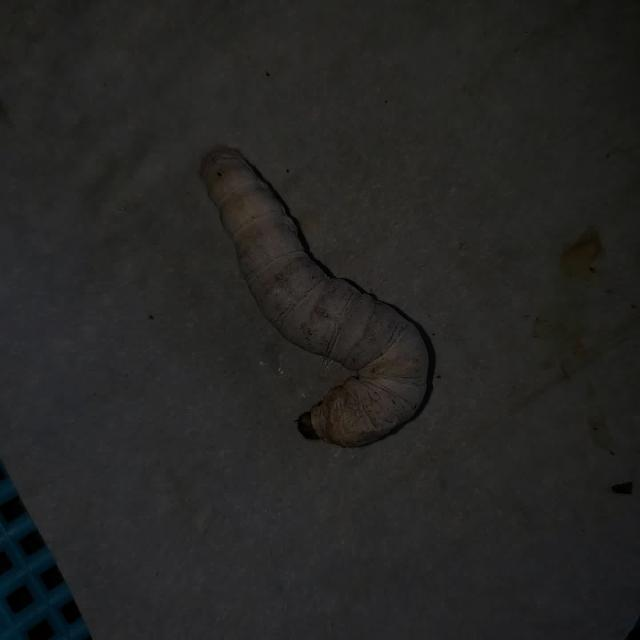Grasserie: (191, 135, 443, 459)
